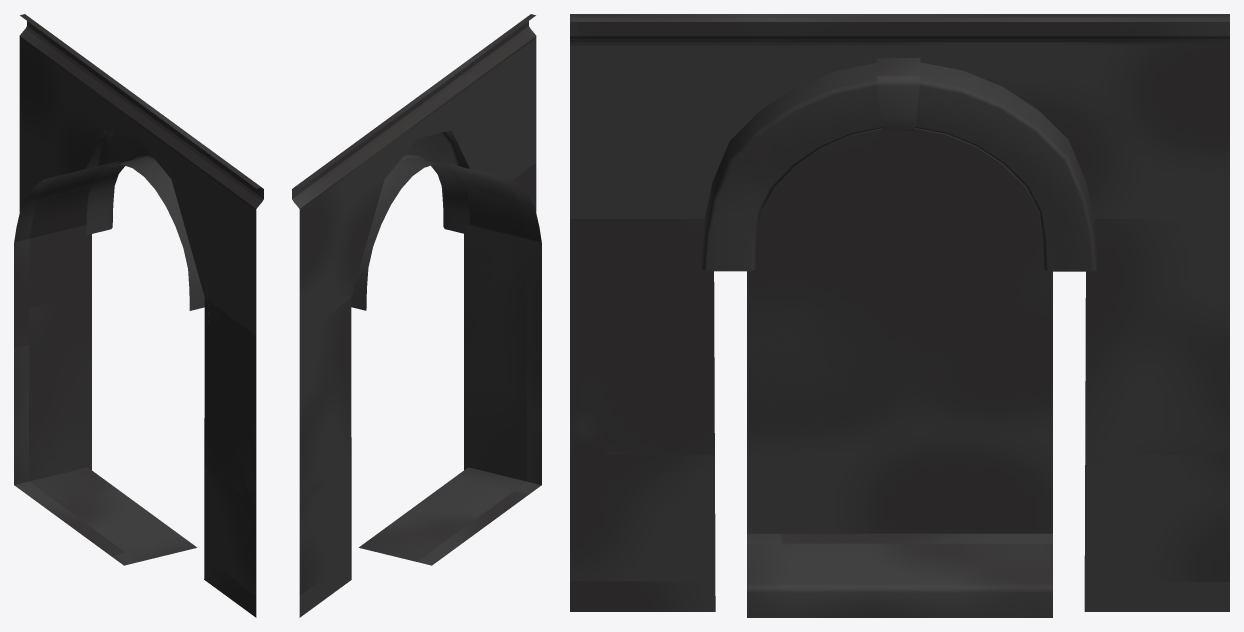
Rendered from SM_DecoWall.fbx.
3 renders of one model, left to right at view 1: azimuth 30°, elevation 25°; view 2: azimuth 150°, elevation 25°; view 3: azimuth 270°, elevation 25°, orthographic. The views are drawn at different scales.
Visible parts, largest first — view 1: Window4, Crown; view 2: Window4, Crown; view 3: Window4, Crown.
Part boxes in pixels (x1,y1,x2,y2): Window4: (14,14,263,617); Crown: (86,130,208,321); Window4: (292,14,541,617); Crown: (351,130,469,310); Window4: (570,14,1229,617); Crown: (702,58,1097,271).
Size of the model in its own units: 73.1 by 300 by 300.
